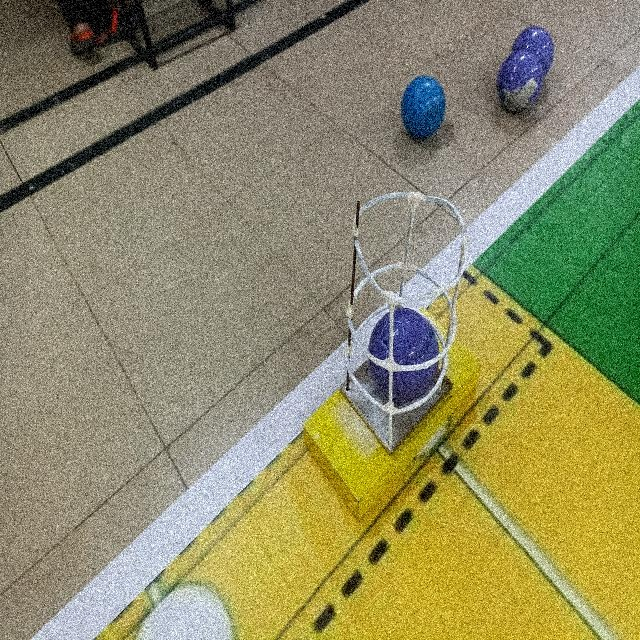blue_ball: (401, 75, 447, 139)
purple_ball: (372, 304, 440, 406), (496, 48, 544, 111), (510, 25, 556, 69)
silo: (338, 192, 470, 445)
